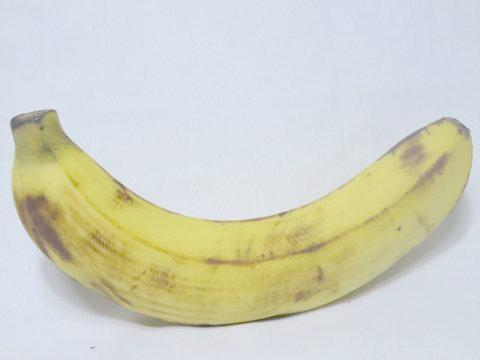ripe: (4, 70, 479, 332)
